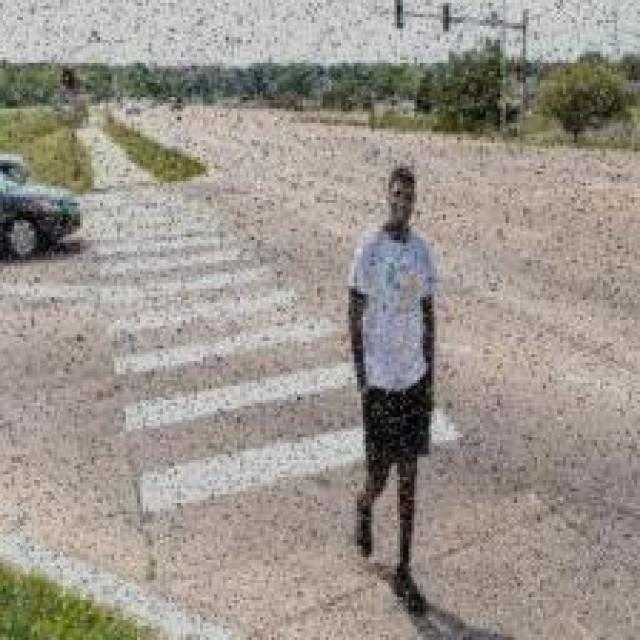walk-crossing: (77, 180, 460, 494)
